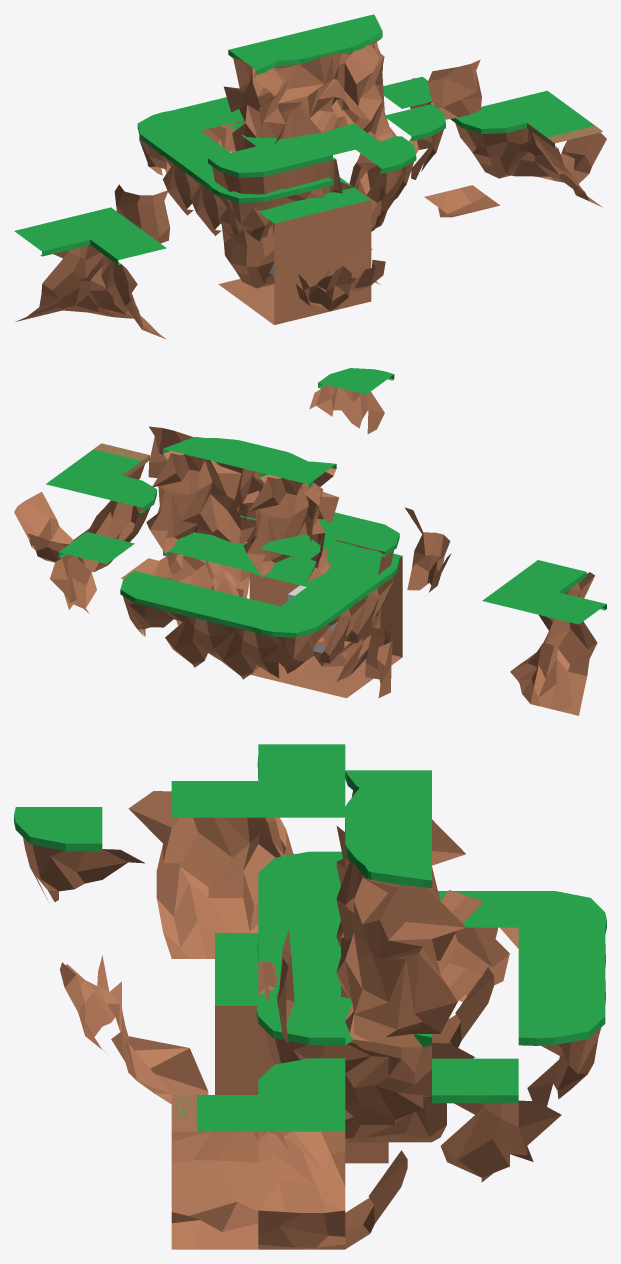
Rendered from Corner Top Inverted.fbx.
3 views of the same model, one above another, from view 1: azimuth 30°, elevation 25°; view 2: azimuth 150°, elevation 25°; view 3: azimuth 270°, elevation 25° (orthographic). The views are drawn at different scales.
Parts seen in each view (by area): view 1: Corner Bottom Old, Corner Top Interior E.002, Edge Top Interior E, Edge Top E.001, Corner Top.001, Corner Top.002, Edge Top E.007, Edge Top E.003, Edge Top.003, Edge Center.001, Corner Top E, Corner Top Interior Edge E (+33 smaller); view 2: Corner Top Interior Edge E, Corner Top Interior E, Edge Top E.005, Edge Top E.004, Corner Bottom Interior Edge E, Edge Top E.001, Corner Top E.004, Corner Top E.001, Edge Top E.006, Edge Bottom E.002, Edge Top E.003, Edge Top E.002 (+32 smaller); view 3: Corner Top Interior Edge E, Edge Top E.006, Edge Top E.007, Edge Bottom.003, Corner Top E.004, Corner Bottom Interior Edge E, Edge Bottom E.003, Corner Top E.002, Edge Center Corner Above E, Edge Top.001, Corner Bottom Old, Corner Top Inverted E (+25 smaller).
Part boxes in pixels (x1=…): Corner Bottom Old: x1=274, y1=200, x2=371, y2=324; Corner Top Interior E.002: x1=224, y1=38, x2=333, y2=137; Edge Top Interior E: x1=277, y1=26, x2=372, y2=117; Edge Top E.001: x1=14, y1=219, x2=103, y2=301; Corner Top.001: x1=450, y1=102, x2=526, y2=156; Corner Top.002: x1=208, y1=146, x2=284, y2=194; Edge Top E.007: x1=90, y1=228, x2=166, y2=312; Edge Top E.003: x1=152, y1=131, x2=227, y2=215; Edge Top.003: x1=257, y1=135, x2=332, y2=189; Edge Center.001: x1=428, y1=59, x2=481, y2=119; Corner Top E: x1=208, y1=182, x2=304, y2=235; Corner Top Interior Edge E: x1=325, y1=14, x2=384, y2=105; Corner Top Interior Edge E: x1=146, y1=437, x2=241, y2=530; Corner Top Interior E: x1=243, y1=460, x2=339, y2=554; Edge Top E.005: x1=155, y1=583, x2=231, y2=667; Edge Top E.004: x1=204, y1=594, x2=279, y2=679; Corner Bottom Interior Edge E: x1=150, y1=460, x2=231, y2=553; Edge Top E.001: x1=531, y1=592, x2=606, y2=670; Corner Top E.004: x1=309, y1=368, x2=394, y2=433; Corner Top E.001: x1=252, y1=606, x2=337, y2=677; Edge Top E.006: x1=50, y1=532, x2=134, y2=613; Edge Bottom E.002: x1=530, y1=645, x2=589, y2=715; Edge Top E.003: x1=281, y1=586, x2=365, y2=666; Edge Top E.002: x1=309, y1=565, x2=393, y2=646; Corner Top Interior Edge E: x1=336, y1=843, x2=483, y2=1013; Edge Top E.006: x1=432, y1=1058, x2=561, y2=1182; Edge Top E.007: x1=128, y1=781, x2=258, y2=897; Edge Bottom.003: x1=171, y1=1160, x2=258, y2=1249; Corner Top E.004: x1=14, y1=807, x2=144, y2=901; Corner Bottom Interior Edge E: x1=336, y1=902, x2=457, y2=1037; Edge Bottom E.003: x1=156, y1=863, x2=249, y2=958; Corner Top E.002: x1=518, y1=1001, x2=605, y2=1106; Edge Center Corner Above E: x1=345, y1=1001, x2=474, y2=1124; Edge Top.001: x1=171, y1=1095, x2=258, y2=1162; Corner Bottom Old: x1=215, y1=1006, x2=388, y2=1163; Corner Top Inverted E: x1=224, y1=781, x2=345, y2=905.
Bounding box in the file's own units: 1172 × 432 × 684.
